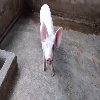heo: (37, 20, 64, 68)
